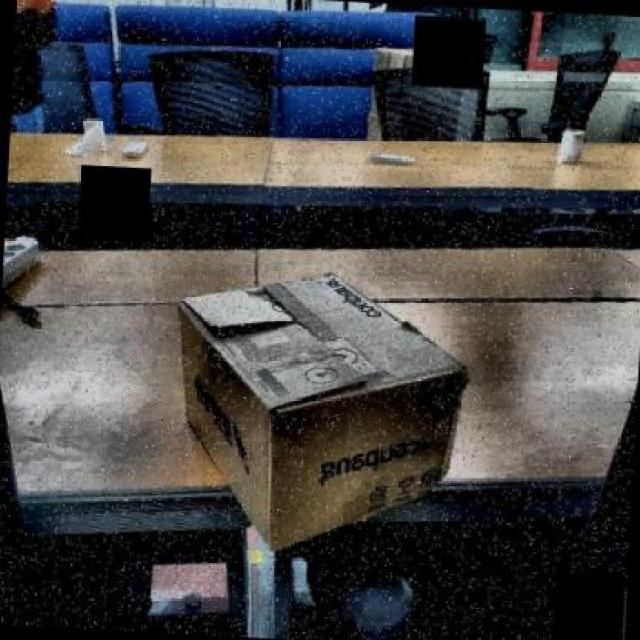box: (159, 260, 472, 572)
